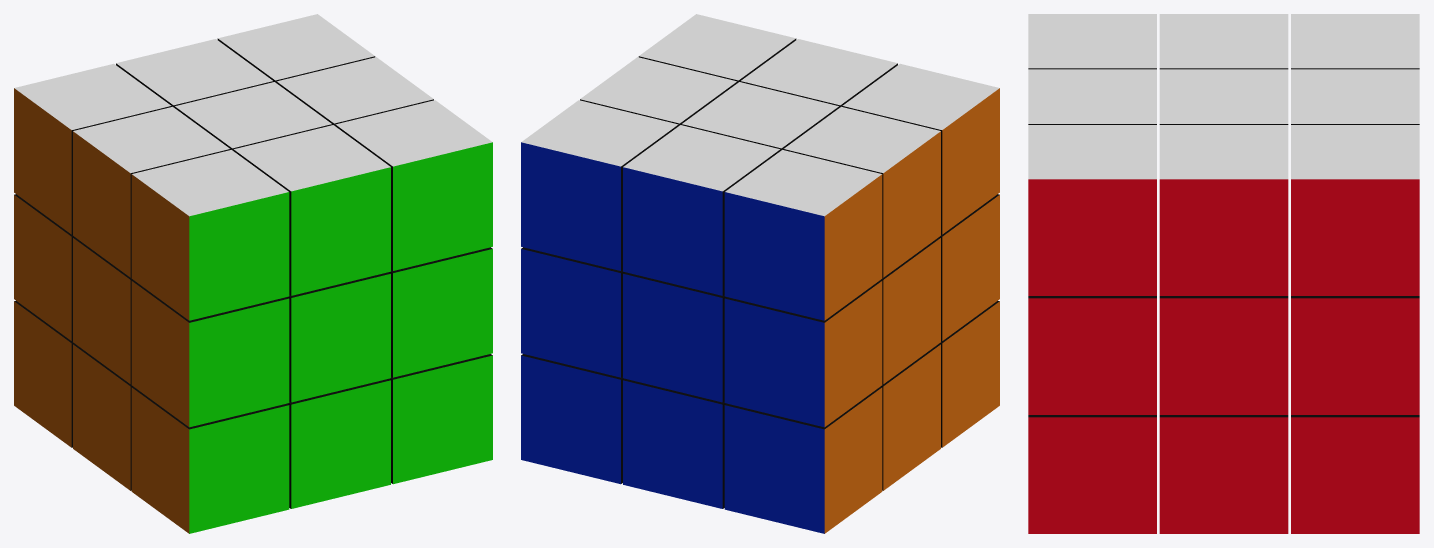
Rendered from Cubik-Rubik_LITE_without_camera_fixCenterPosition.glb.
The picture shows the model from 3 angles, left to right: view 1: azimuth 30°, elevation 25°; view 2: azimuth 150°, elevation 25°; view 3: azimuth 270°, elevation 25°; orthographic projection. The views are drawn at different scales.
Visible parts, largest first — view 1: O1_GOW.001, O7_GYO.007, O4_GO.004, R1_GWR.001, Mid1_GW.001, O3_OBW.003, O2_OW.002, R4_GR.004, Mid4_CENTER_G.004, R7_GRY.007, Mid7_YG.007, O6_OB.006 (+7 smaller); view 2: O3_OBW.003, O9_OYB.009, O6_OB.006, R3_RWB.003, Mid3_WB.003, O1_GOW.001, O2_OW.002, R6_RB.006, Mid6_CENTER_B.006, R9_RBY.009, Mid9_YB.009, O5_CENTER_O.005 (+7 smaller); view 3: R2_WR.002, R1_GWR.001, R3_RWB.003, R5_CENTER_R.005, R8_RY.008, R4_GR.004, R6_RB.006, R7_GRY.007, R9_RBY.009, Mid2_CENTER_W.002, O2_OW.002, Mid3_WB.003 (+3 smaller).
Part boxes in pixels (x1,y1,x2,y2): O1_GOW.001: (131, 150, 289, 320); O7_GYO.007: (131, 387, 289, 533); O4_GO.004: (131, 280, 289, 427); R1_GWR.001: (335, 100, 492, 270); Mid1_GW.001: (233, 125, 390, 295); O3_OBW.003: (14, 63, 171, 234); O2_OW.002: (73, 106, 230, 277); R4_GR.004: (389, 247, 492, 377); Mid4_CENTER_G.004: (287, 272, 390, 402); R7_GRY.007: (389, 354, 492, 484); Mid7_YG.007: (287, 378, 390, 508); O6_OB.006: (14, 194, 74, 340); O3_OBW.003: (724, 150, 882, 320); O9_OYB.009: (724, 387, 882, 533); O6_OB.006: (724, 280, 882, 427); R3_RWB.003: (521, 100, 678, 270); Mid3_WB.003: (623, 125, 780, 295); O1_GOW.001: (842, 63, 999, 234); O2_OW.002: (783, 106, 940, 277); R6_RB.006: (521, 247, 624, 377); Mid6_CENTER_B.006: (623, 272, 726, 402); R9_RBY.009: (521, 354, 624, 484); Mid9_YB.009: (623, 378, 726, 508); O5_CENTER_O.005: (880, 237, 940, 384); R2_WR.002: (1159, 125, 1288, 295); R1_GWR.001: (1028, 125, 1156, 295); R3_RWB.003: (1291, 125, 1419, 295); R5_CENTER_R.005: (1159, 296, 1288, 414); R8_RY.008: (1159, 415, 1288, 533); R4_GR.004: (1028, 296, 1156, 414); R6_RB.006: (1291, 296, 1419, 414); R7_GRY.007: (1028, 415, 1156, 533); R9_RBY.009: (1291, 415, 1419, 533); Mid2_CENTER_W.002: (1159, 69, 1288, 124); O2_OW.002: (1159, 14, 1288, 69); Mid3_WB.003: (1291, 69, 1419, 124).
Size of the model in its own units: 6.08 by 6.08 by 6.08.
